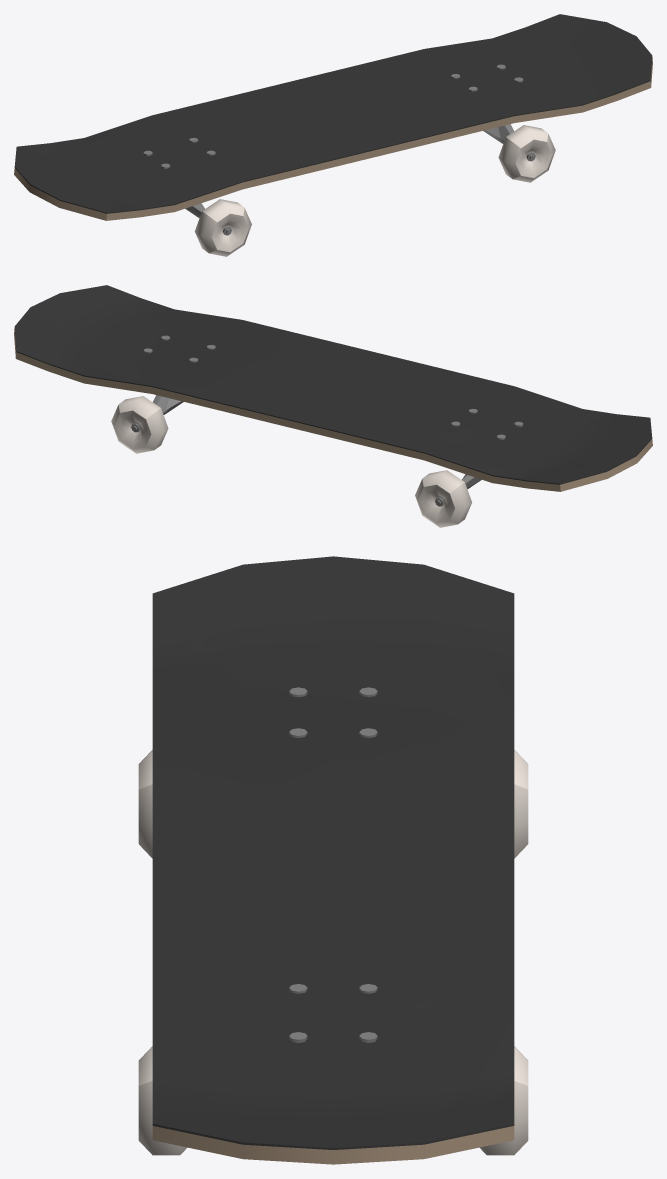
The model's file is skateboard_mdl_01.fbx.
The picture shows the model from 3 angles, top to bottom: view 1: azimuth 30°, elevation 25°; view 2: azimuth 150°, elevation 25°; view 3: azimuth 270°, elevation 25°; orthographic projection. The views are drawn at different scales.
Visible parts, largest first — view 1: grip, deck, RR_L_wheel, FT_L_wheel; view 2: grip, deck, RR_R_wheel, FT_R_wheel; view 3: grip, deck, RR_L_wheel, RR_R_wheel, FT_R_wheel, FT_L_wheel.
Boxes of the visible parts, <box> form: grip: <box>14,14,652,213</box>; deck: <box>14,58,652,220</box>; RR_L_wheel: <box>498,125,555,182</box>; FT_L_wheel: <box>194,199,251,256</box>; grip: <box>14,285,652,484</box>; deck: <box>14,329,652,491</box>; RR_R_wheel: <box>111,396,168,453</box>; FT_R_wheel: <box>415,470,472,527</box>; grip: <box>152,556,514,1149</box>; deck: <box>152,1126,514,1164</box>; RR_L_wheel: <box>138,1046,186,1155</box>; RR_R_wheel: <box>480,1046,528,1155</box>; FT_R_wheel: <box>514,750,528,858</box>; FT_L_wheel: <box>138,750,152,858</box>.
Size of the model in its own units: 32.01 by 3.85 by 8.88.
